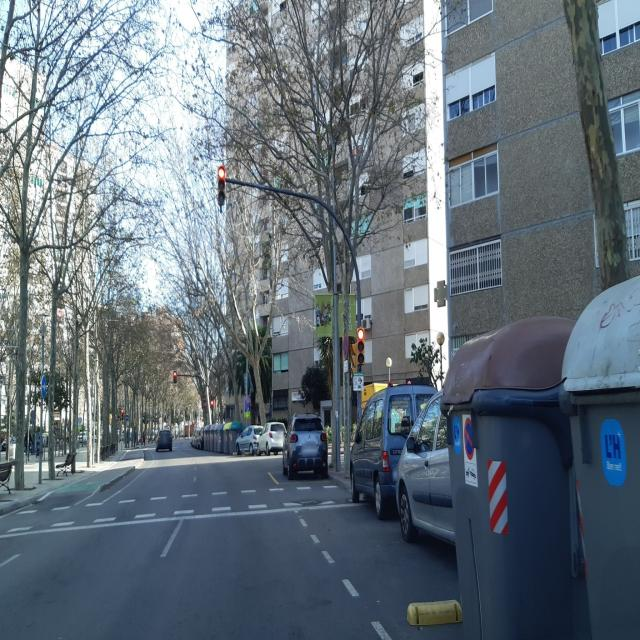car: (349, 378, 439, 520), (282, 413, 329, 480), (256, 421, 286, 455), (235, 425, 263, 455), (156, 428, 172, 452)
